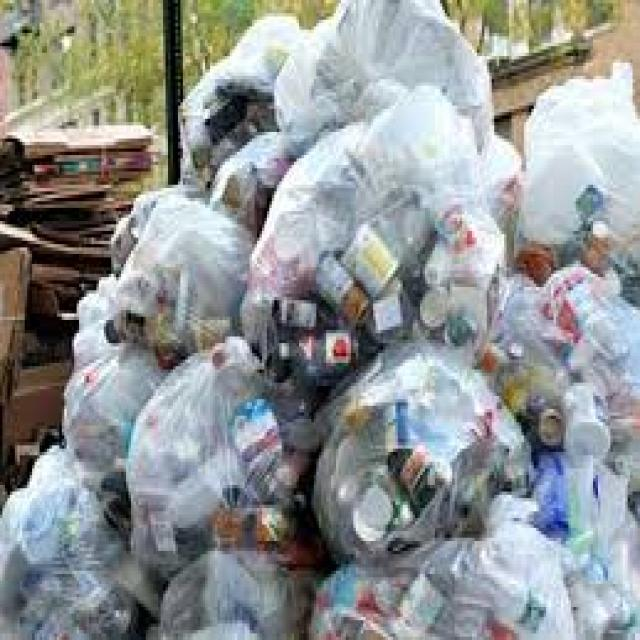plastic_bag: (237, 68, 619, 481), (100, 311, 317, 578)
